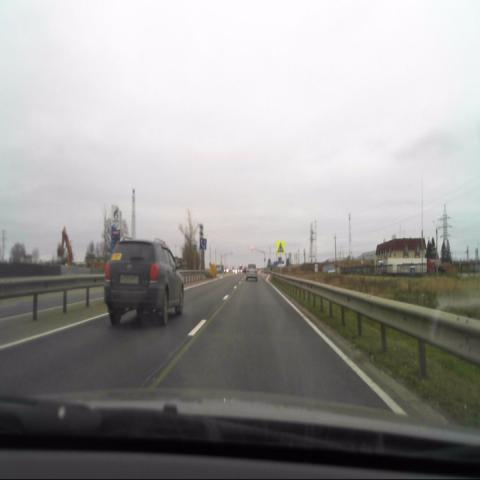1_22: (277, 242, 285, 254)
5_15_3: (199, 237, 206, 249)
